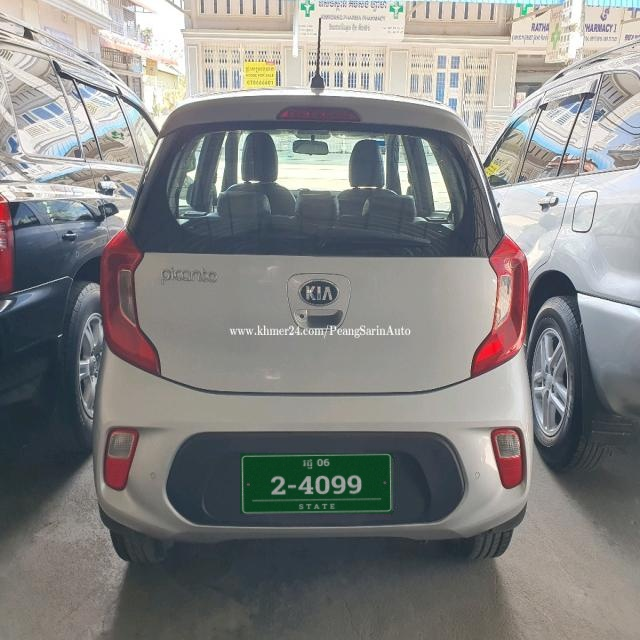Plate Number: (240, 454, 394, 514)
